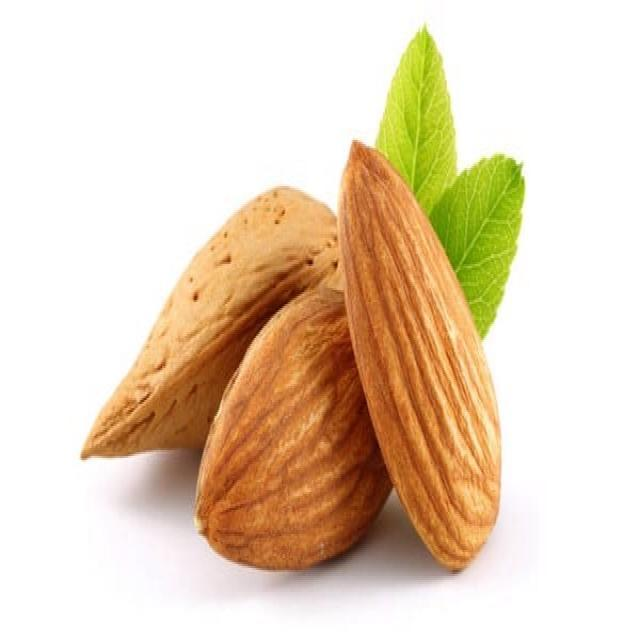almond: (337, 137, 503, 575), (195, 257, 400, 575)
